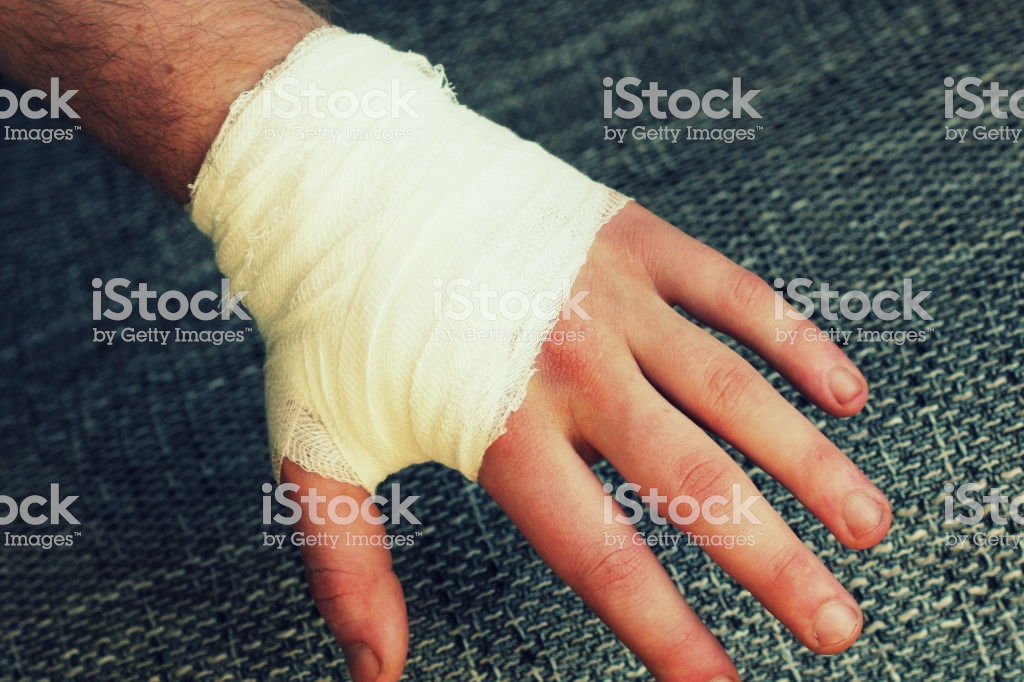injured: (155, 11, 668, 522)
